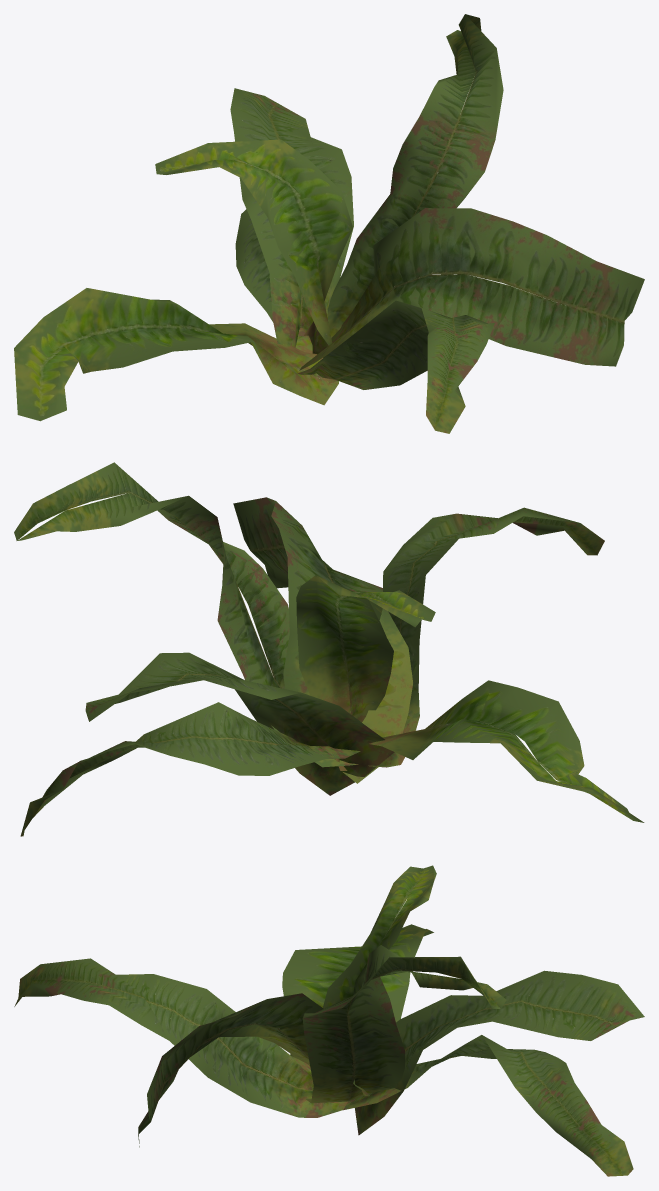
File: fern_far.gltf
The picture shows the model from 3 angles, top to bottom: view 1: azimuth 30°, elevation 25°; view 2: azimuth 150°, elevation 25°; view 3: azimuth 270°, elevation 25°; orthographic projection. The views are drawn at different scales.
Parts seen in each view (by area): view 1: fern_far; view 2: fern_far; view 3: fern_far.
Part boxes in pixels (x1,y1,x2,y2): fern_far: [14, 14, 644, 433]; fern_far: [14, 462, 644, 836]; fern_far: [14, 865, 644, 1176].
Bounding box in the file's own units: 1.55 × 0.8011 × 1.71.
1 material, 1 textured.
